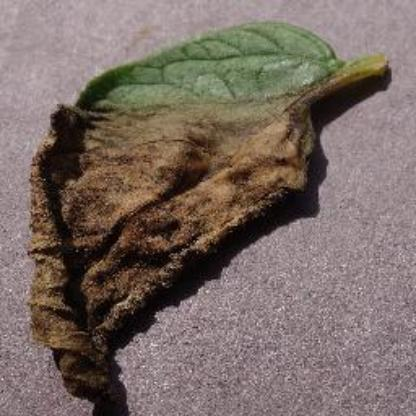Late-Blight: (19, 17, 400, 404)
